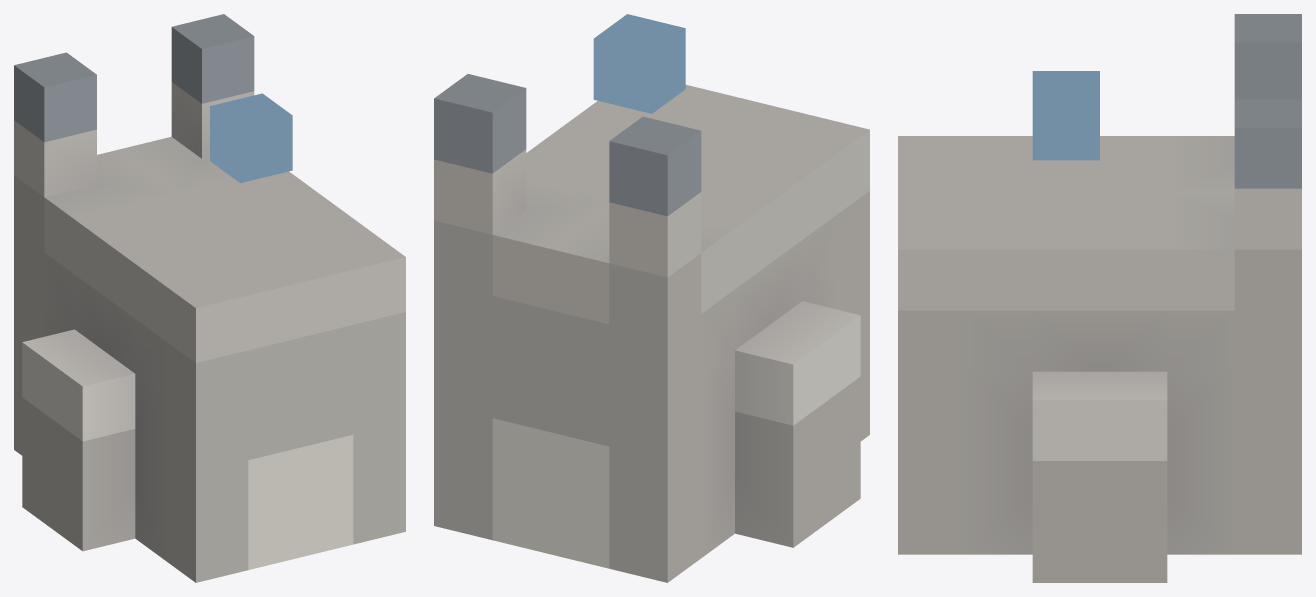
The model's file is gatehouse.lite.glb.
3 views of the same model, side by side, from view 1: azimuth 30°, elevation 25°; view 2: azimuth 150°, elevation 25°; view 3: azimuth 270°, elevation 25° (orthographic). The views are drawn at different scales.
Parts seen in each view (by area): view 1: gatehouse; view 2: gatehouse; view 3: gatehouse.
Boxes of the visible parts, x1,y1,x2,y2 form: gatehouse: (14, 14, 405, 582); gatehouse: (434, 14, 869, 582); gatehouse: (898, 14, 1301, 582).
Bounding box in the file's own units: 3 × 3.5 × 3.
